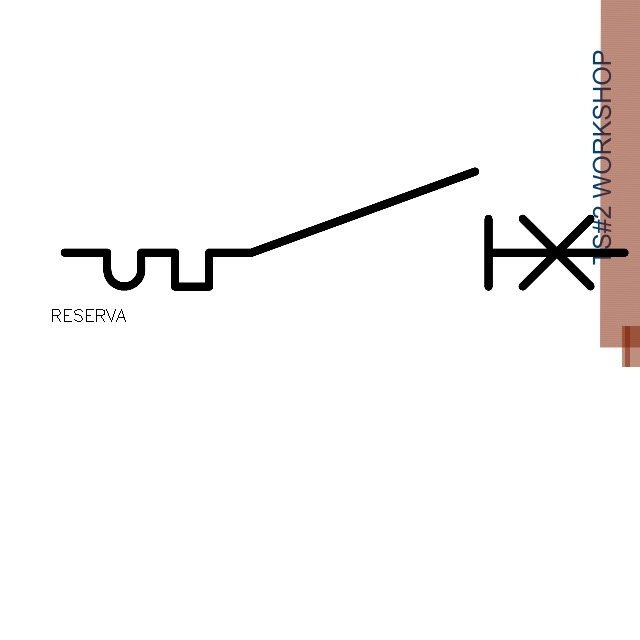interruptor_termomagnetico: (50, 157, 639, 301)
